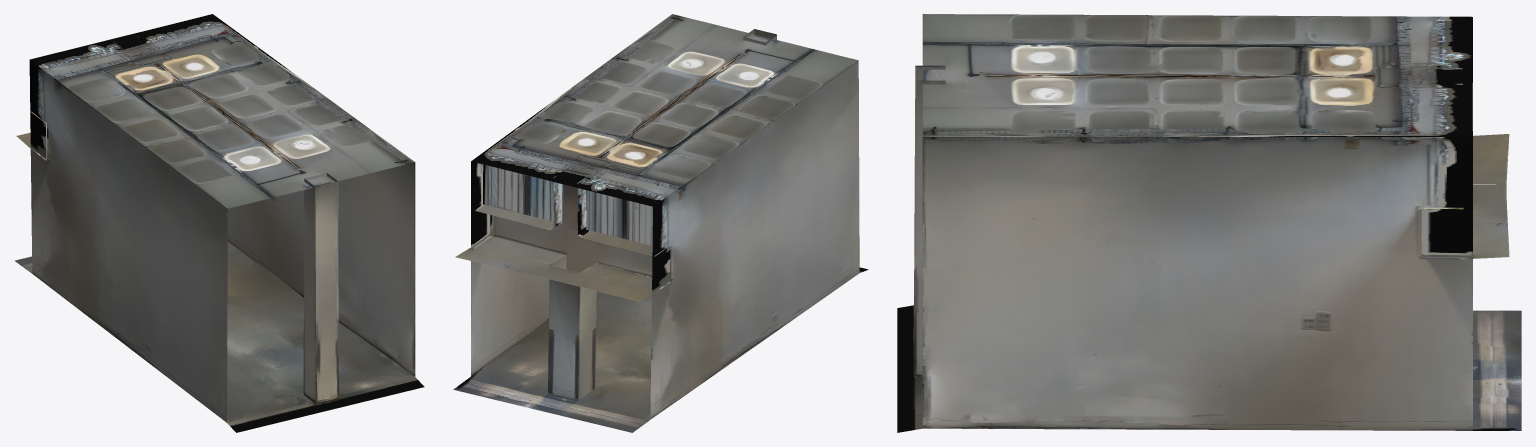
File: D-block-corrLP.fbx
3 renders of one model, left to right at view 1: azimuth 30°, elevation 25°; view 2: azimuth 150°, elevation 25°; view 3: azimuth 270°, elevation 25°, orthographic. The views are drawn at different scales.
Visible parts, largest first — view 1: D-block-corrLP; view 2: D-block-corrLP; view 3: D-block-corrLP.
Part boxes in pixels (x1=…): D-block-corrLP: x1=14, y1=14, x2=424, y2=432; D-block-corrLP: x1=453, y1=14, x2=868, y2=432; D-block-corrLP: x1=897, y1=14, x2=1521, y2=432.
Size of the model in its own units: 311 by 344 by 647.
1 material, 1 textured.
